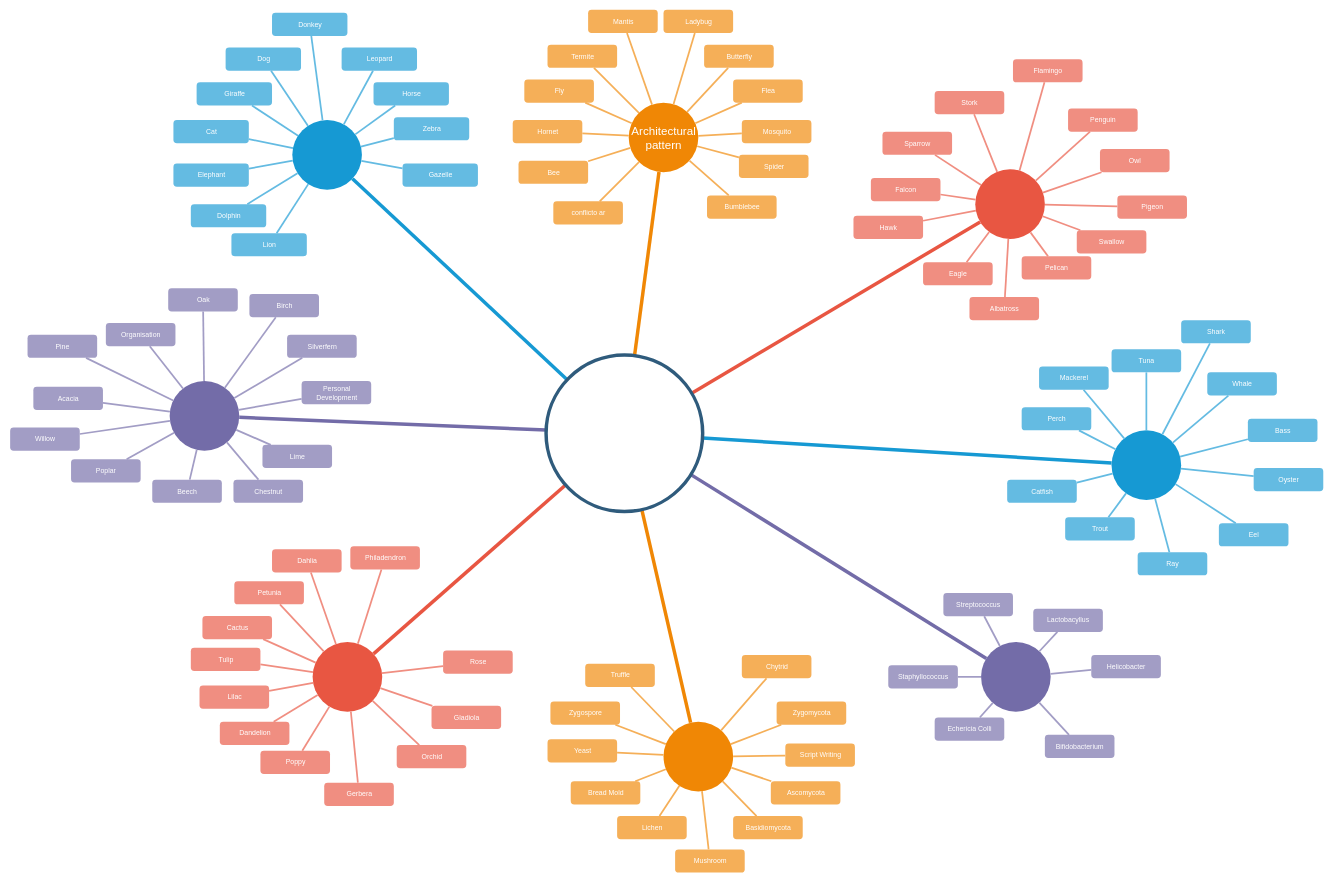
Some shapes in this 1333 by 883 pixel diagram are drawn without their labels. The shapes that lost their labels are listed below. From the top down, each one's box as (x1, y1, x2, y2) in pixels, then its label:
(292, 120, 362, 189): Mammal
(975, 169, 1045, 239): Architectural Style
(169, 381, 239, 450): Tree
(544, 353, 704, 513): Sofware Architecture
(1111, 430, 1181, 500): Design Pattern
(312, 642, 382, 711): Flower
(981, 642, 1050, 711): -ilities
(663, 722, 733, 791): Fungi
